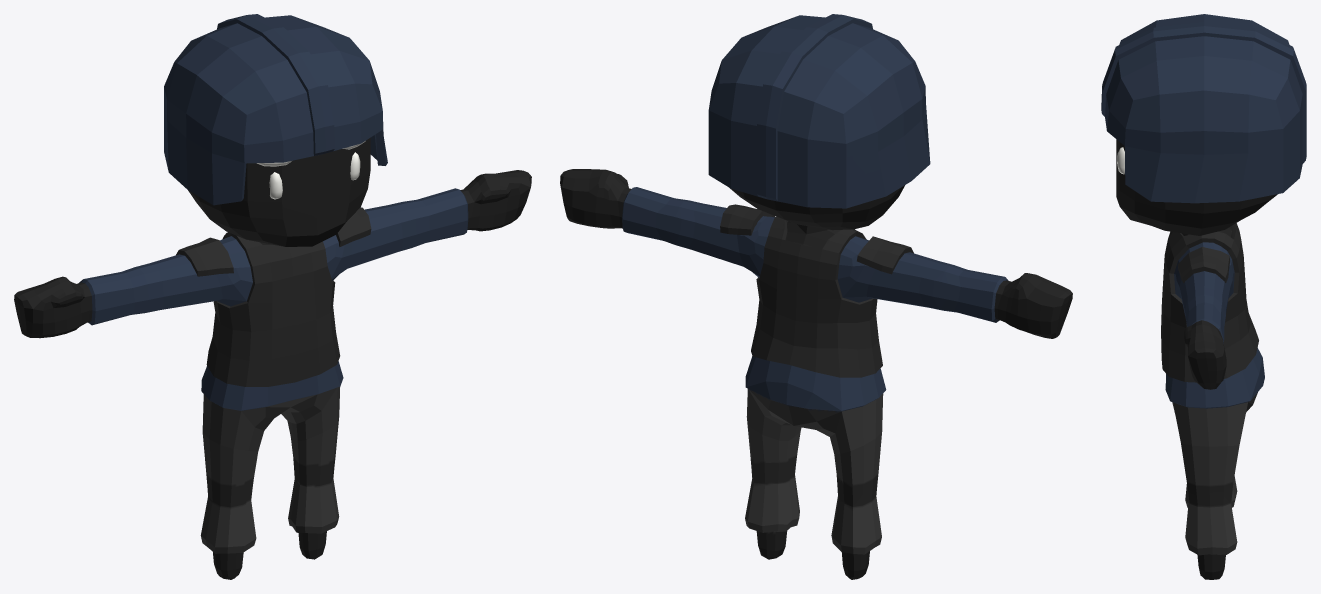
The model's file is BlueSoldier_Male.fbx.
3 renders of one model, left to right at view 1: azimuth 30°, elevation 25°; view 2: azimuth 150°, elevation 25°; view 3: azimuth 270°, elevation 25°, orthographic.
Parts seen in each view (by area): view 1: Body; view 2: Body; view 3: Body.
Part boxes in pixels (box(x1,y1,x2,y2)): Body: box(14, 14, 531, 579); Body: box(560, 14, 1072, 579); Body: box(1101, 14, 1306, 579).
Size of the model in its own units: 324 by 328 by 115.
1 material, 1 textured.
